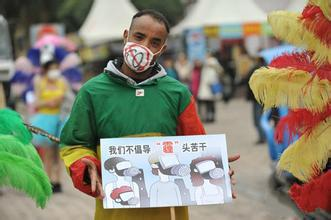OK: (125, 29, 167, 70)
